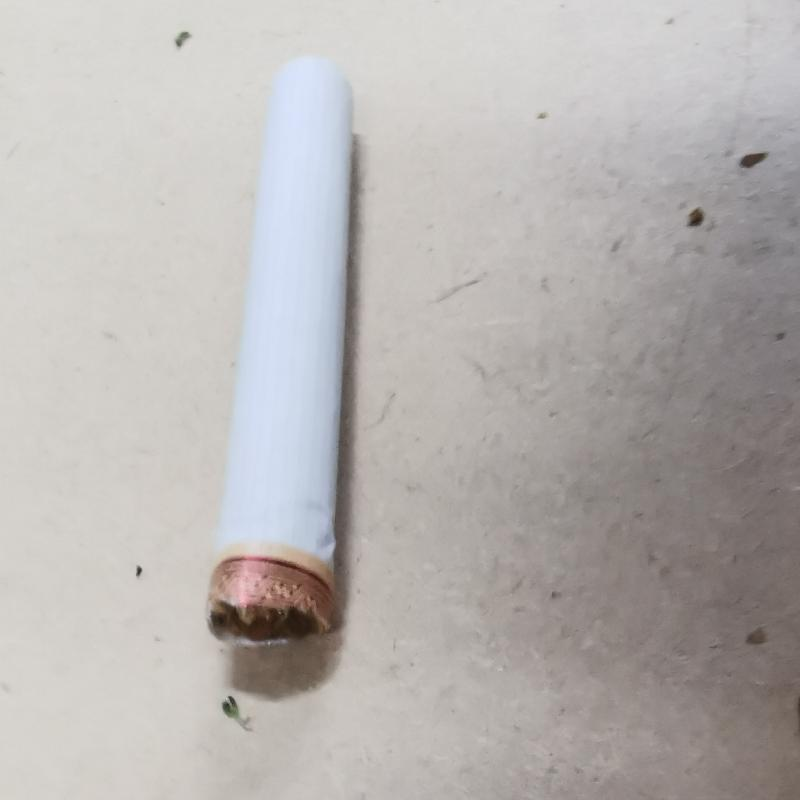cigarette: (198, 61, 360, 641)
